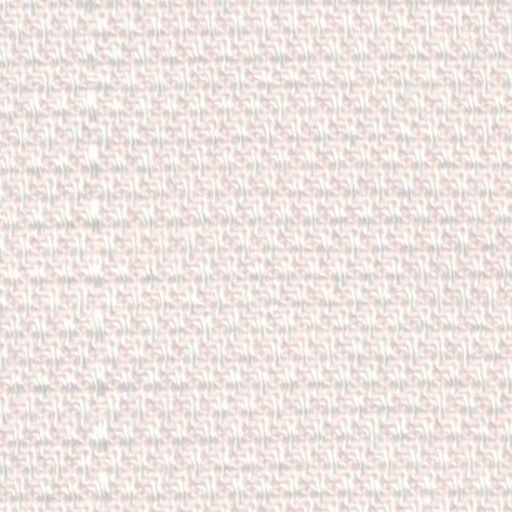TuoSha: (16, 22, 204, 484)
